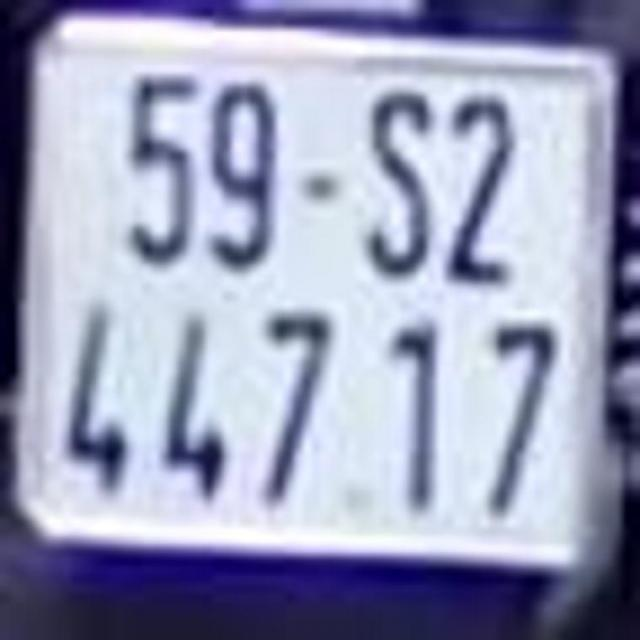1: (381, 310, 448, 518)
2: (448, 76, 516, 292)
4: (158, 306, 228, 511), (64, 305, 135, 504)
5: (128, 60, 198, 271)
7: (259, 300, 333, 510), (490, 306, 562, 520)
9: (206, 66, 277, 273)
S: (361, 74, 436, 280)
